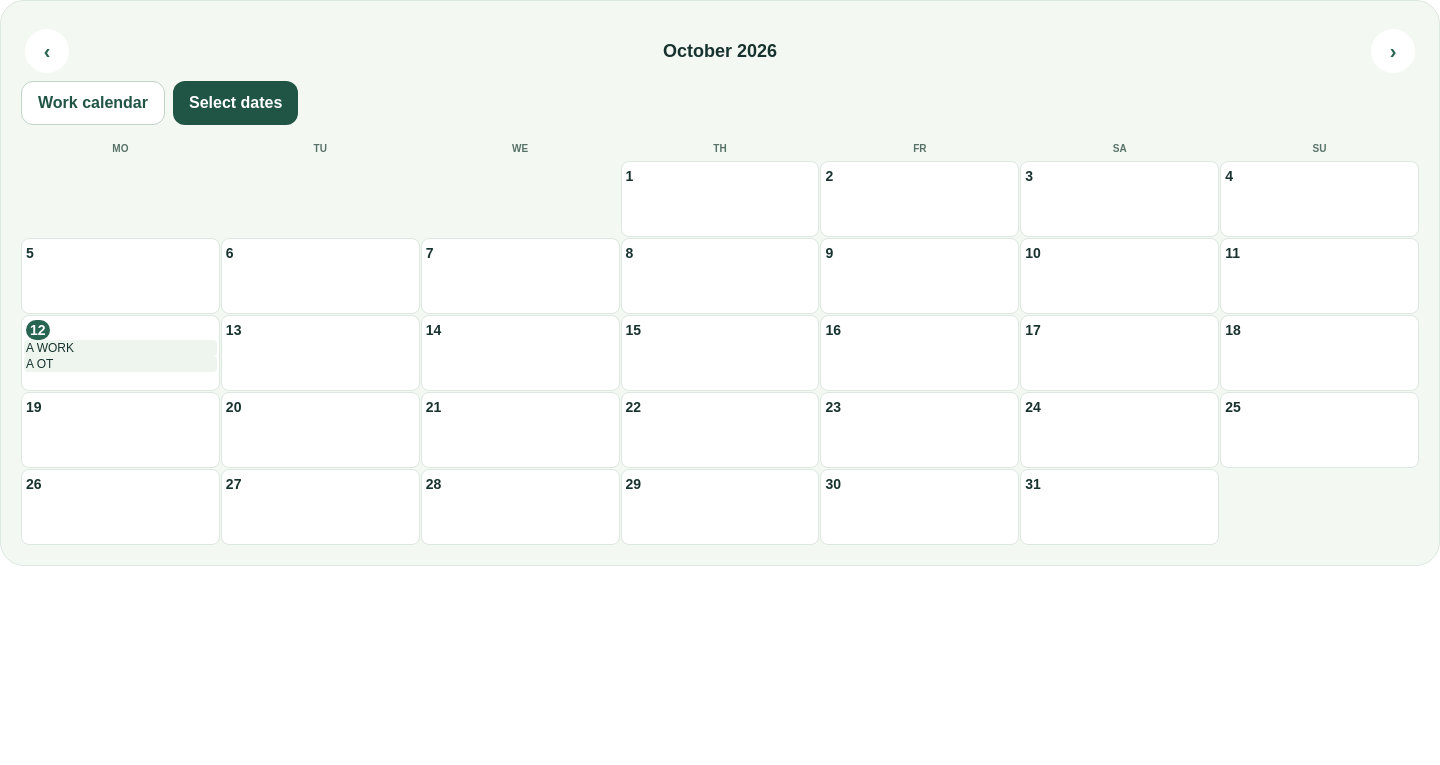
it: event UI › requires confirmation before deleting and refreshes the selected day
This screenshot has width=1440, height=765.
Click the button with aria-label "Open October 12, 2026".
click(120, 353)  # box [21,315,220,391]
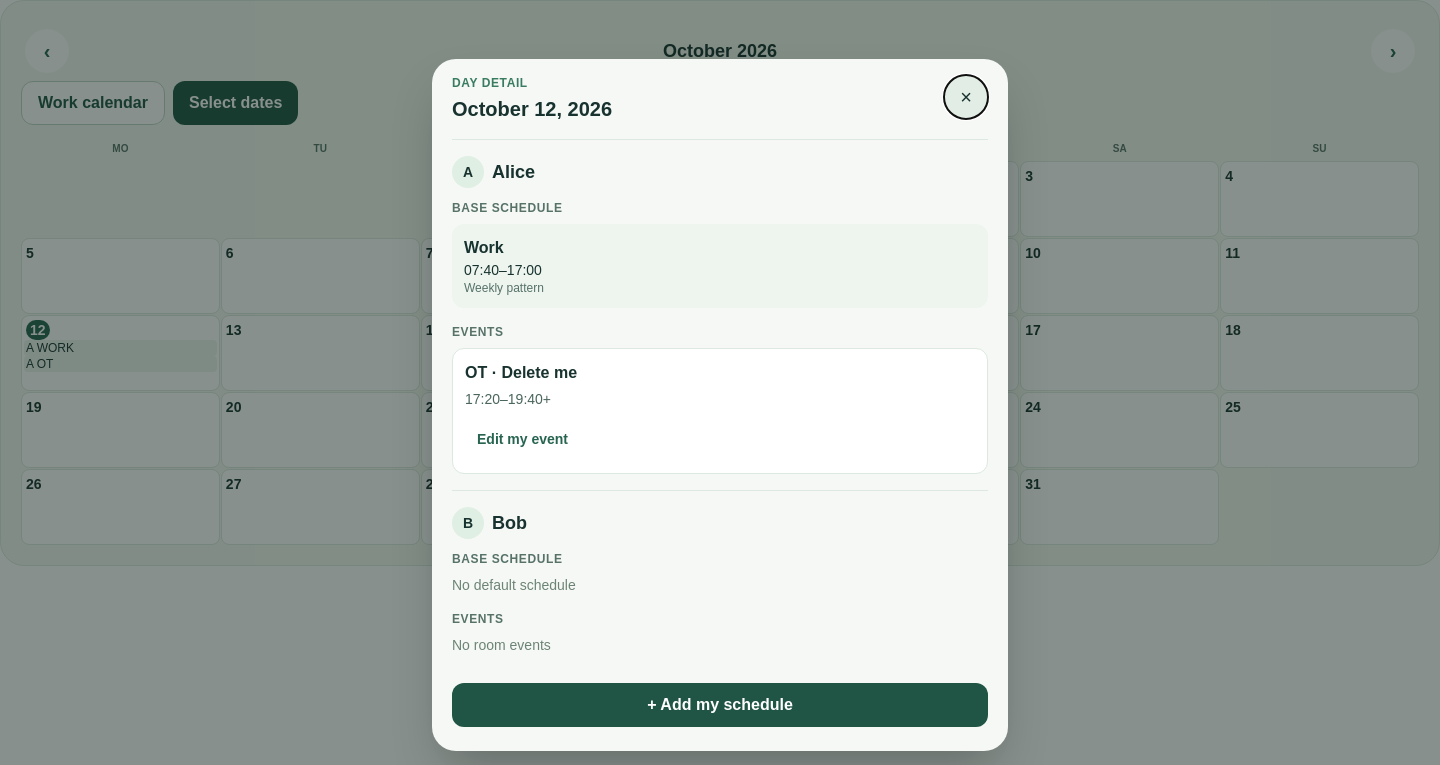
Click the button "Edit my event".
click(522, 439)  # box [465,417,580,461]
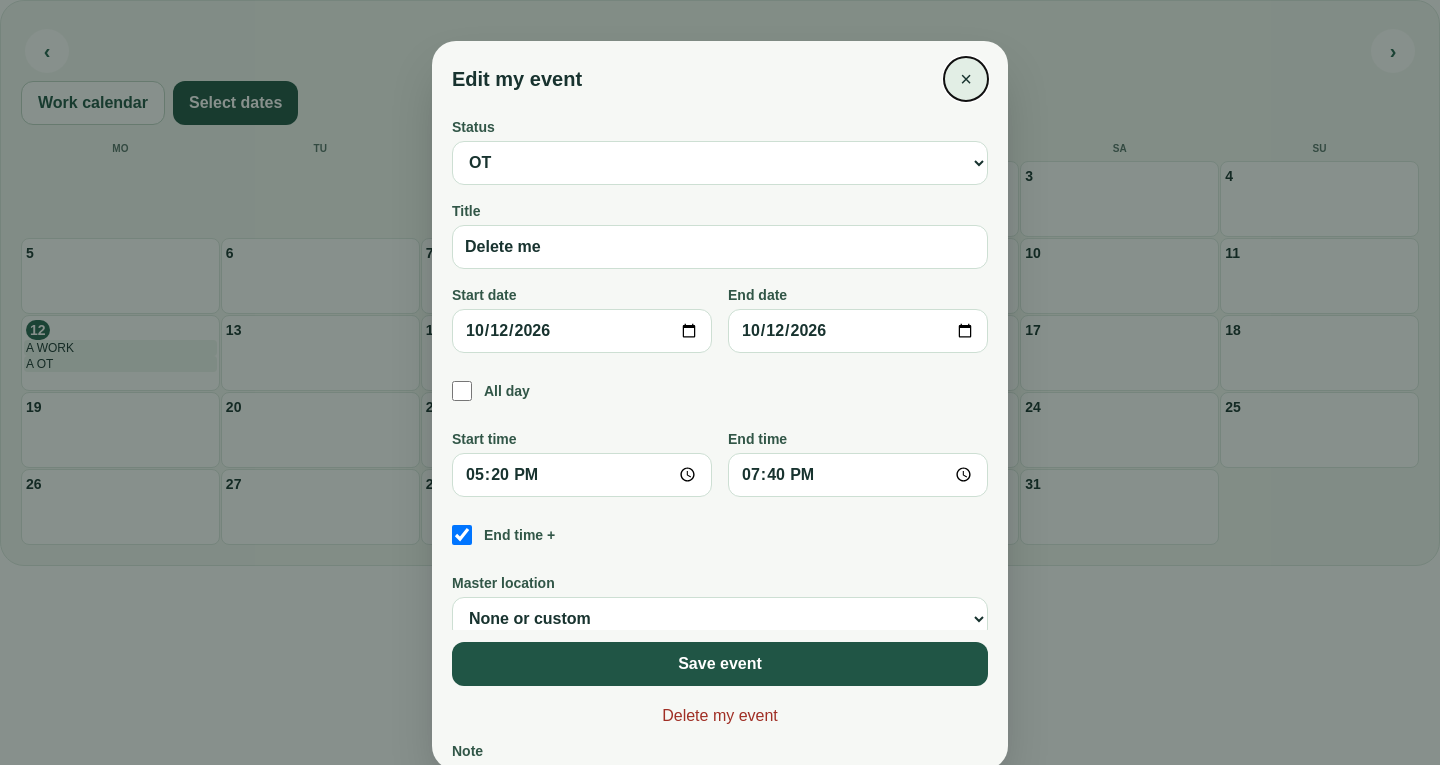
Click the button "Delete my event".
click(720, 716)  # box [452,694,988,738]
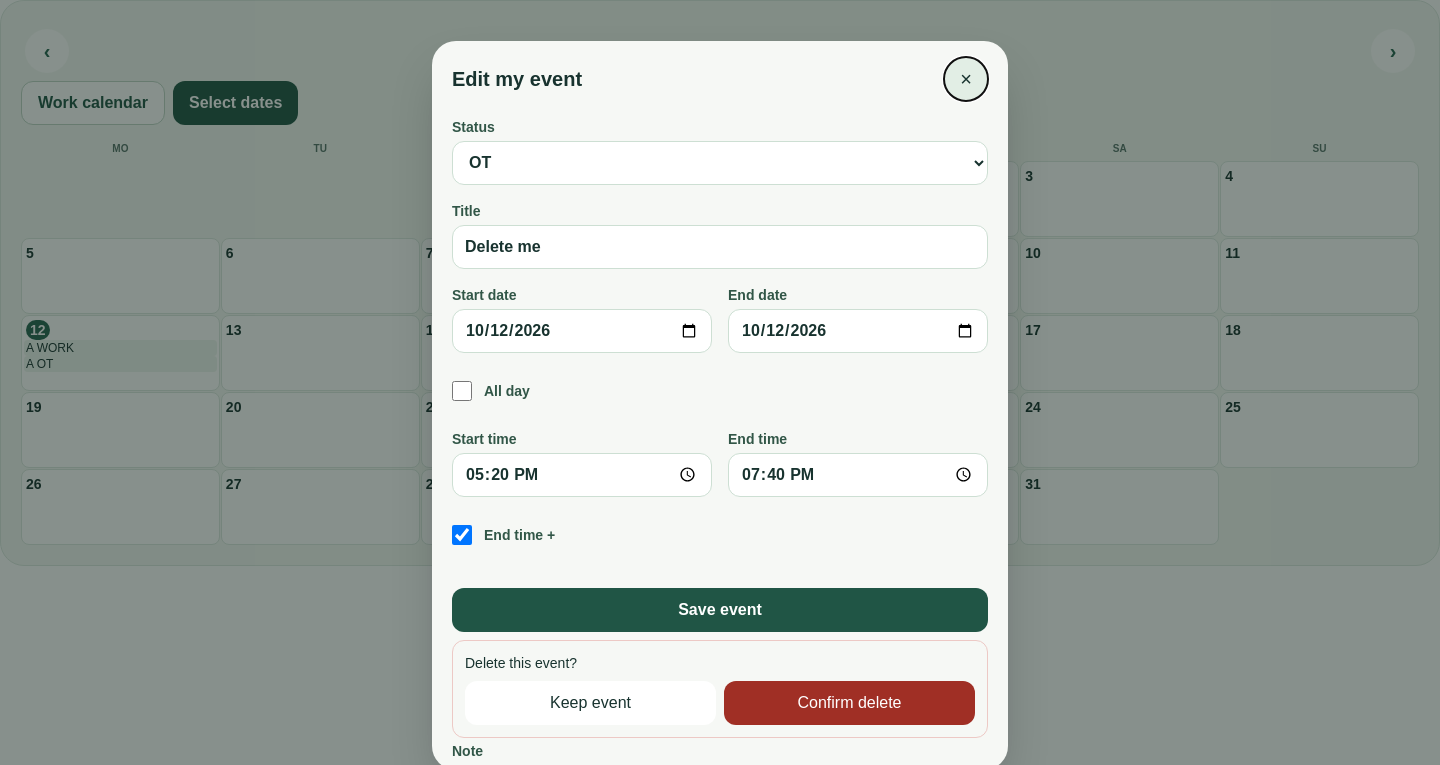
Click the button "Keep event".
click(590, 702)  # box [465,680,716,724]
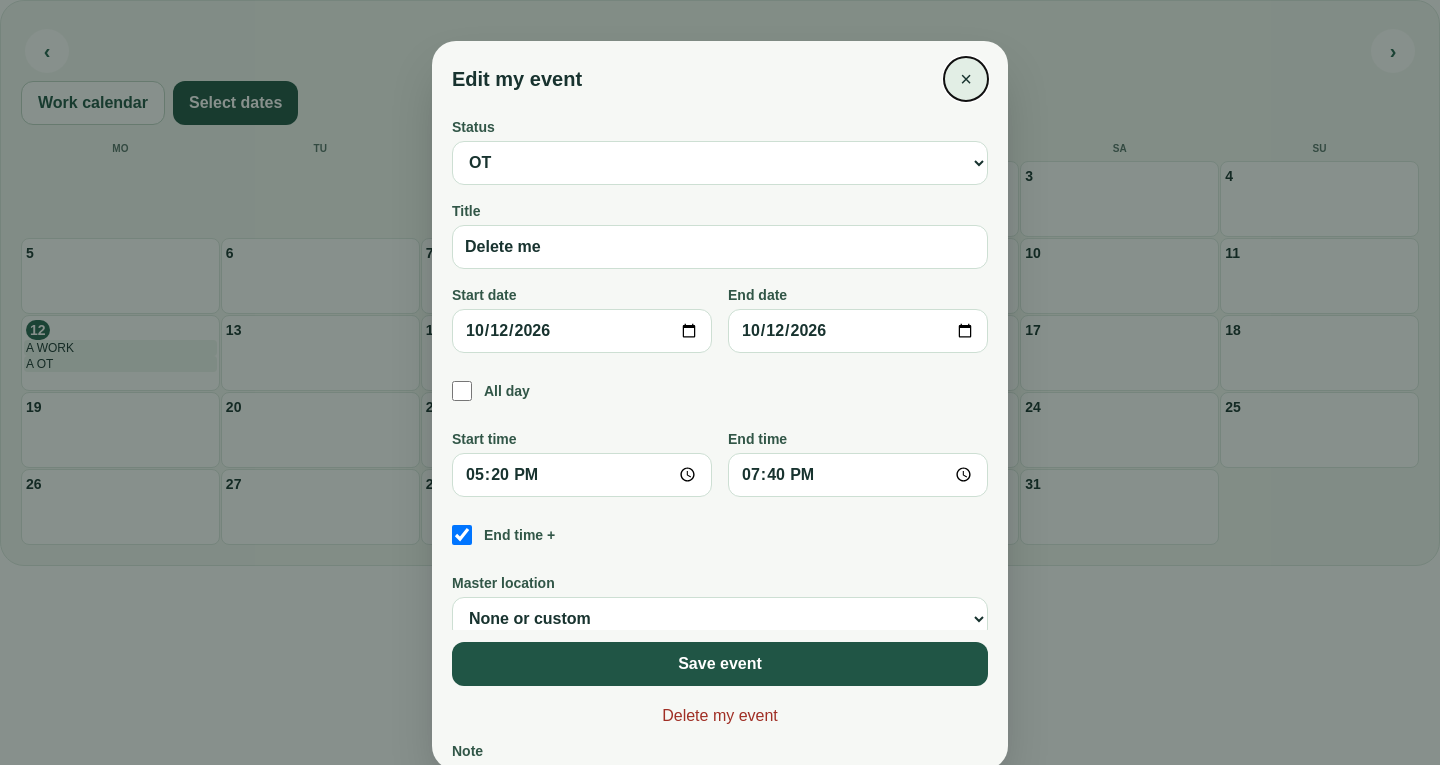
Check: the button "Confirm delete" is gone
Click the button "Delete my event".
click(720, 716)  # box [452,694,988,738]
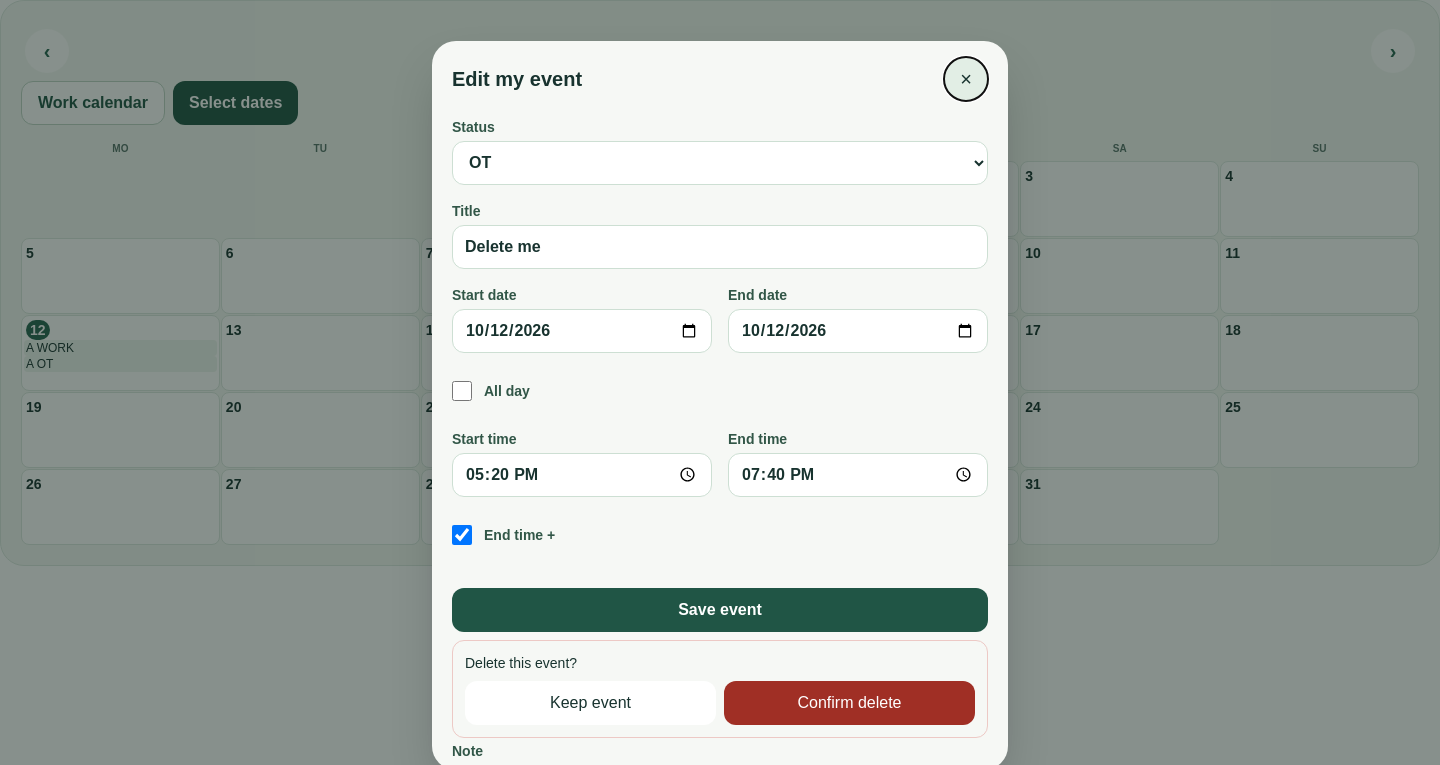
Click the button "Confirm delete".
click(850, 702)  # box [724,680,975,724]
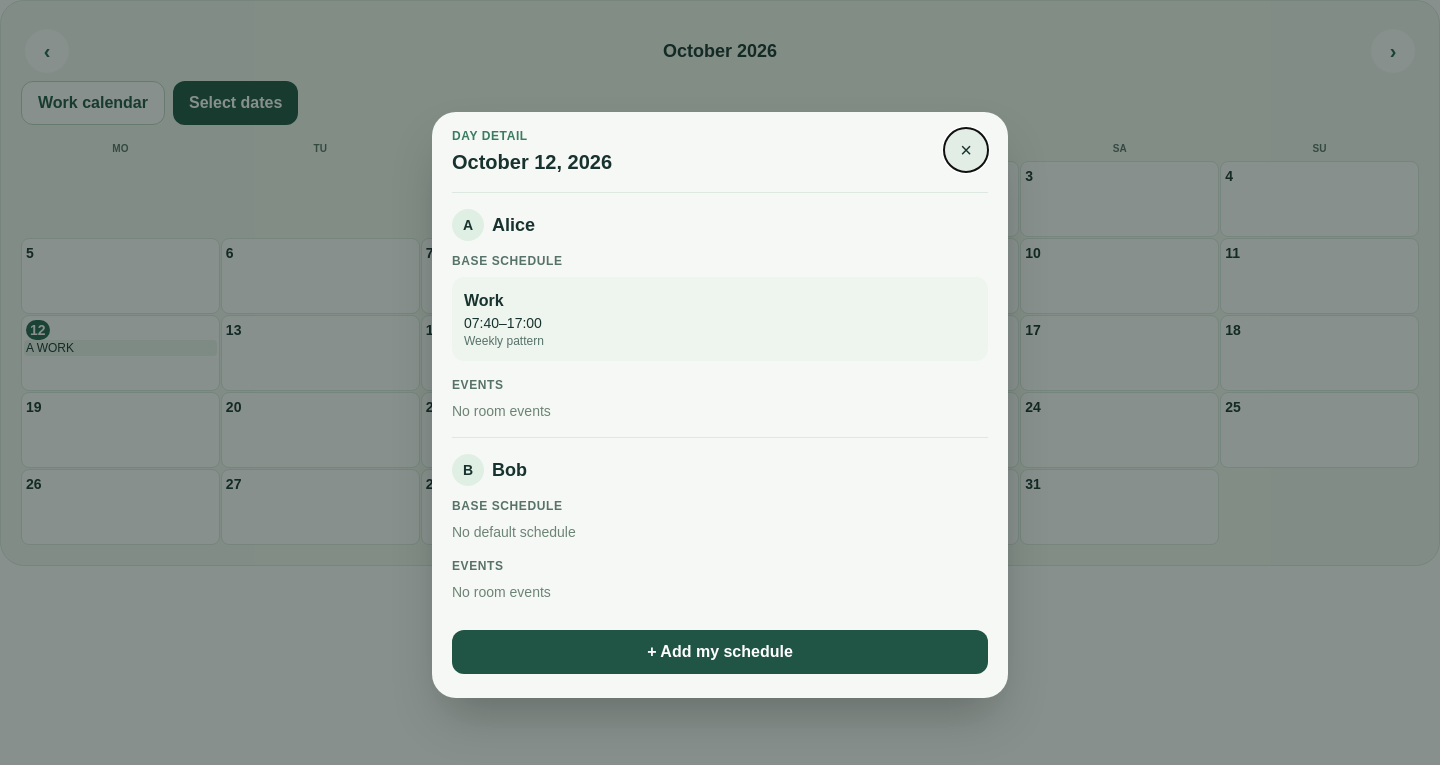
Check: the text "Delete me" is not shown
Check: the text "October 12, 2026" is shown, box [452,151,612,173]
